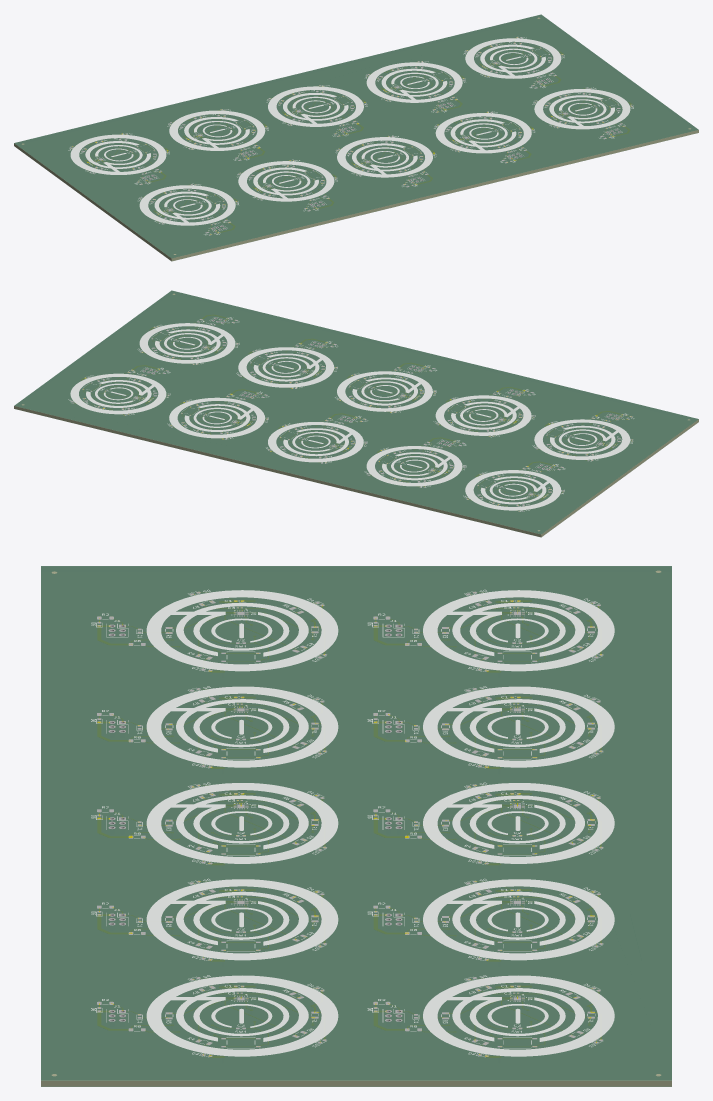
The model's file is cpec-sao.glb.
3 renders of one model, top to bottom at view 1: azimuth 30°, elevation 25°; view 2: azimuth 150°, elevation 25°; view 3: azimuth 270°, elevation 25°, orthographic. The views are drawn at different scales.
Visible parts, largest first — view 1: =>[0:1:1:7], =>[0:1:1:9], =>[0:1:1:5], =>[0:1:1:2]; view 2: =>[0:1:1:7], =>[0:1:1:9], =>[0:1:1:5], =>[0:1:1:2]; view 3: =>[0:1:1:7], =>[0:1:1:9], =>[0:1:1:5], =>[0:1:1:2].
Part boxes in pixels (<box>): =>[0:1:1:7]: <box>14,14,698,261</box>; =>[0:1:1:9]: <box>14,15,698,261</box>; =>[0:1:1:5]: <box>68,37,633,235</box>; =>[0:1:1:2]: <box>70,37,632,235</box>; =>[0:1:1:7]: <box>14,290,698,537</box>; =>[0:1:1:9]: <box>14,291,698,537</box>; =>[0:1:1:5]: <box>68,317,634,511</box>; =>[0:1:1:2]: <box>71,315,633,511</box>; =>[0:1:1:7]: <box>41,566,671,1086</box>; =>[0:1:1:9]: <box>41,567,671,1086</box>; =>[0:1:1:5]: <box>91,589,614,1057</box>; =>[0:1:1:2]: <box>97,591,603,1057</box>.
Size of the model in its own units: 0.2926 by 0.00166 by 0.1516.
Materials: 4 (4 with a texture image).
